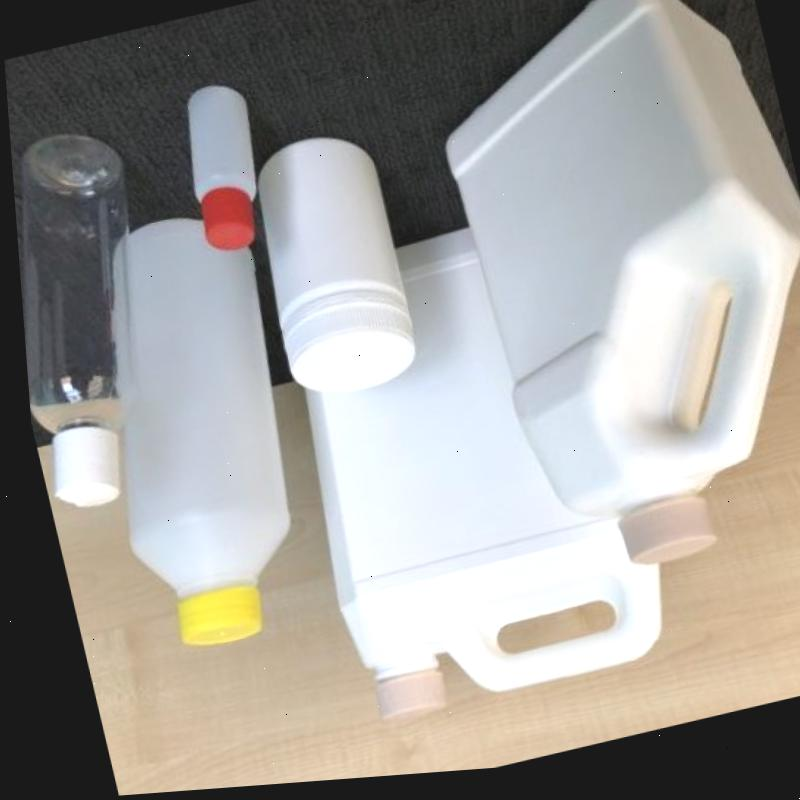botella: (7, 112, 194, 521)
